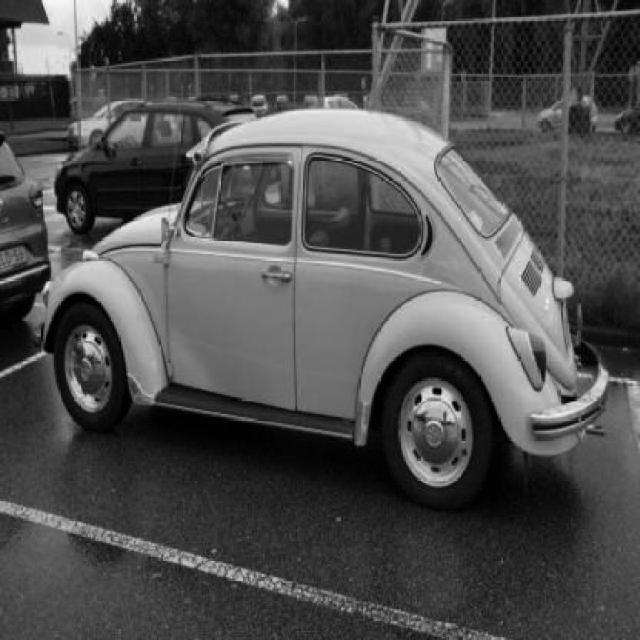car: (29, 114, 603, 485)
